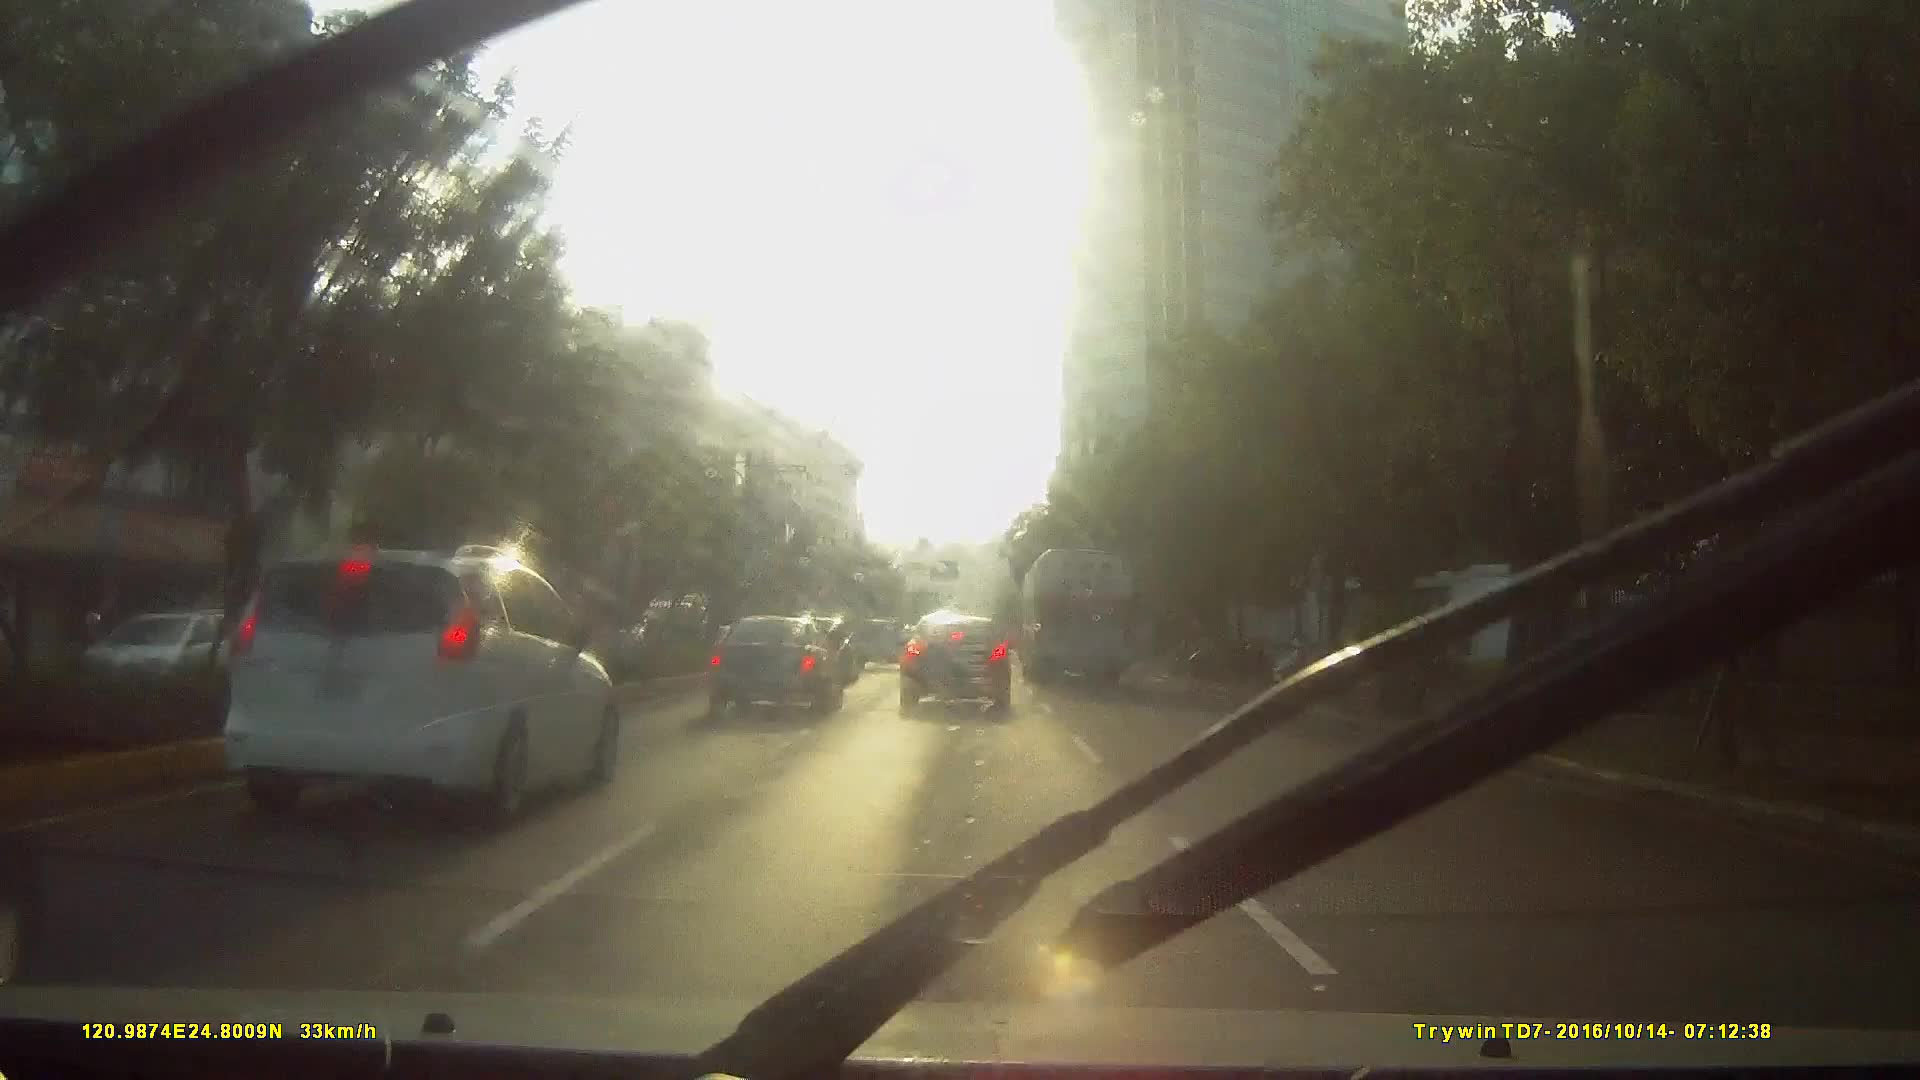vehicle: (251, 556, 684, 868), (195, 541, 629, 836), (1017, 545, 1137, 690), (700, 615, 845, 720), (895, 607, 1013, 717), (849, 615, 909, 676)
